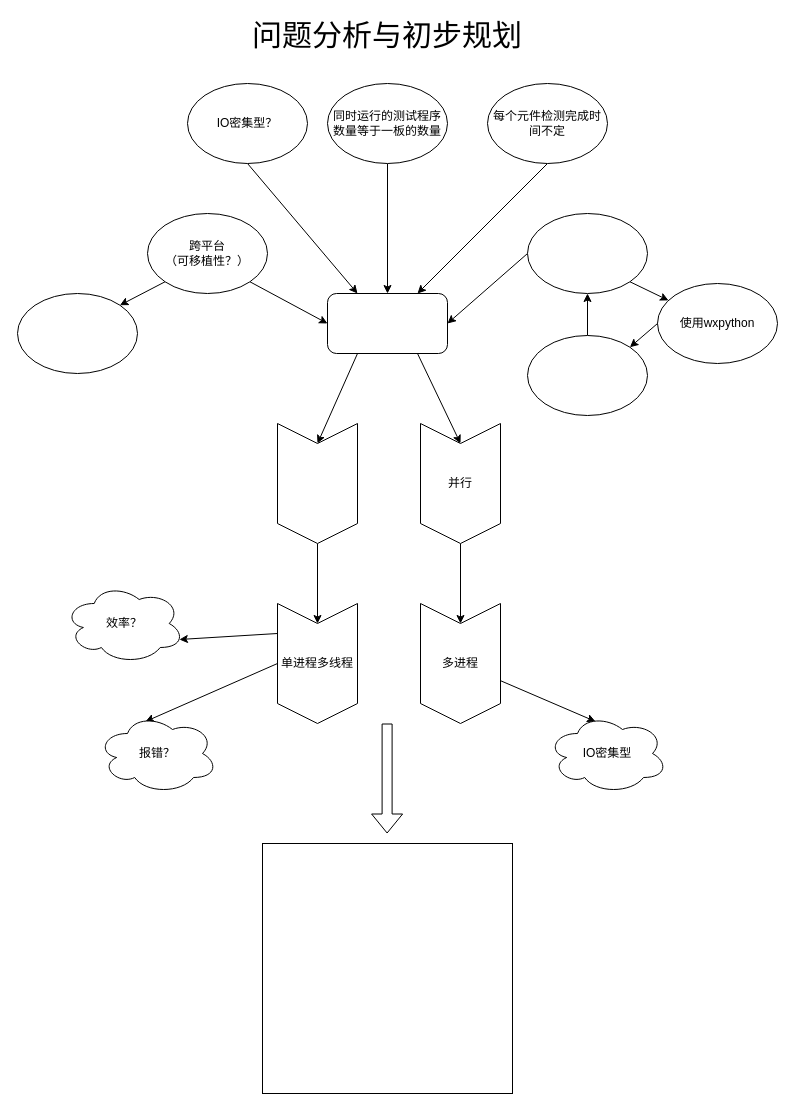
Some shapes in this 795 by 1111 pixel diagram are drawn without their labels. Here are the shapes that lost their labels. From the top down, the centre of each, then its label:
pixel 587 253: 实时反馈检测进度？
pixel 77 333: 标准库？
pixel 387 323: 同时检测一整板元件 （6个）
pixel 587 375: 进程中填加多线程
pixel 317 483: 并发
pixel 387 968: multiprocessing + pool + apply_async
